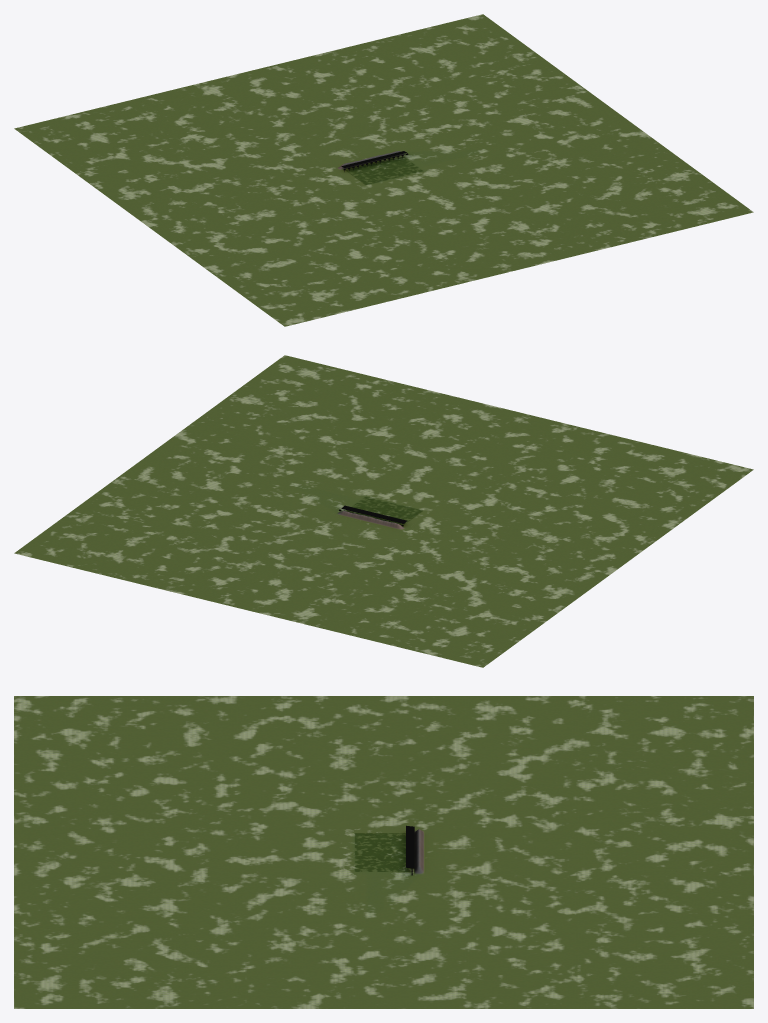
Rendered from env_outdoor_04.glb.
3 renders of one model, top to bottom at view 1: azimuth 30°, elevation 25°; view 2: azimuth 150°, elevation 25°; view 3: azimuth 270°, elevation 25°, orthographic. The views are drawn at different scales.
Visible parts, largest first — view 1: ground_mid, ground_near; view 2: ground_mid, ground_near; view 3: ground_mid, ground_near.
Boxes of the visible parts, x1=… form: ground_mid: x1=14, y1=14, x2=753, y2=326; ground_near: x1=332, y1=150, x2=435, y2=190; ground_mid: x1=14, y1=355, x2=753, y2=667; ground_near: x1=332, y1=491, x2=435, y2=531; ground_mid: x1=14, y1=696, x2=753, y2=1008; ground_near: x1=340, y1=828, x2=427, y2=876.
Size of what is drawn, in the model's own units: 420 by 3.69 by 420.
4 materials, 4 textured.
